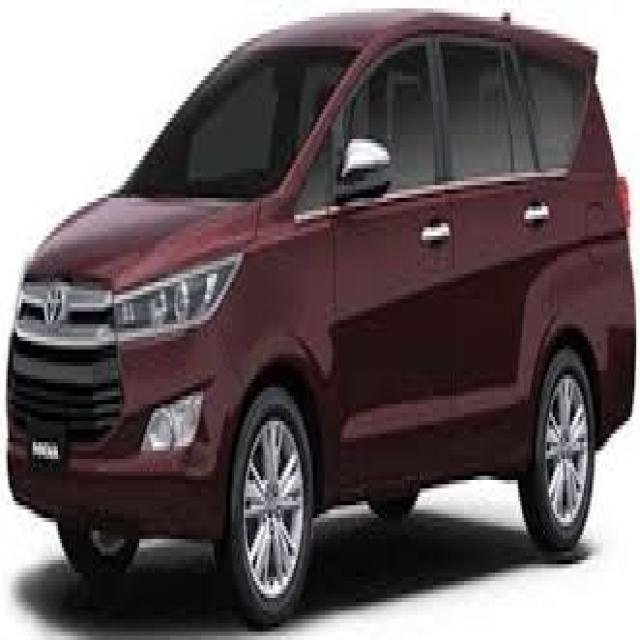light_vehicle: (6, 9, 636, 629)
